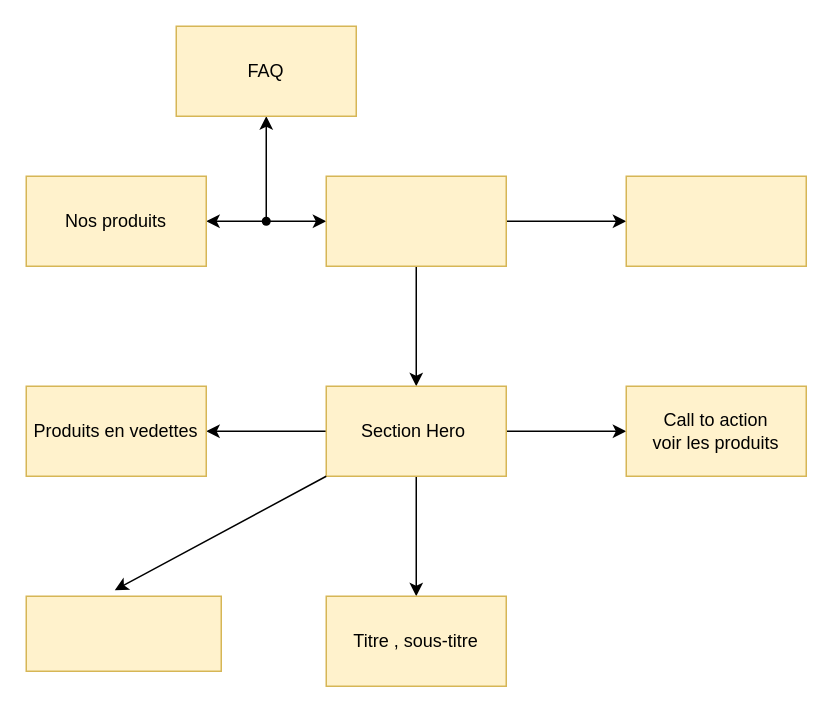
The diagram is 833 pixels wide and 713 high, and some of its shapes have lost their labels. Each missing label, with the centre of its shape:
Home: (415,220)
Image section hero: (123,633)
